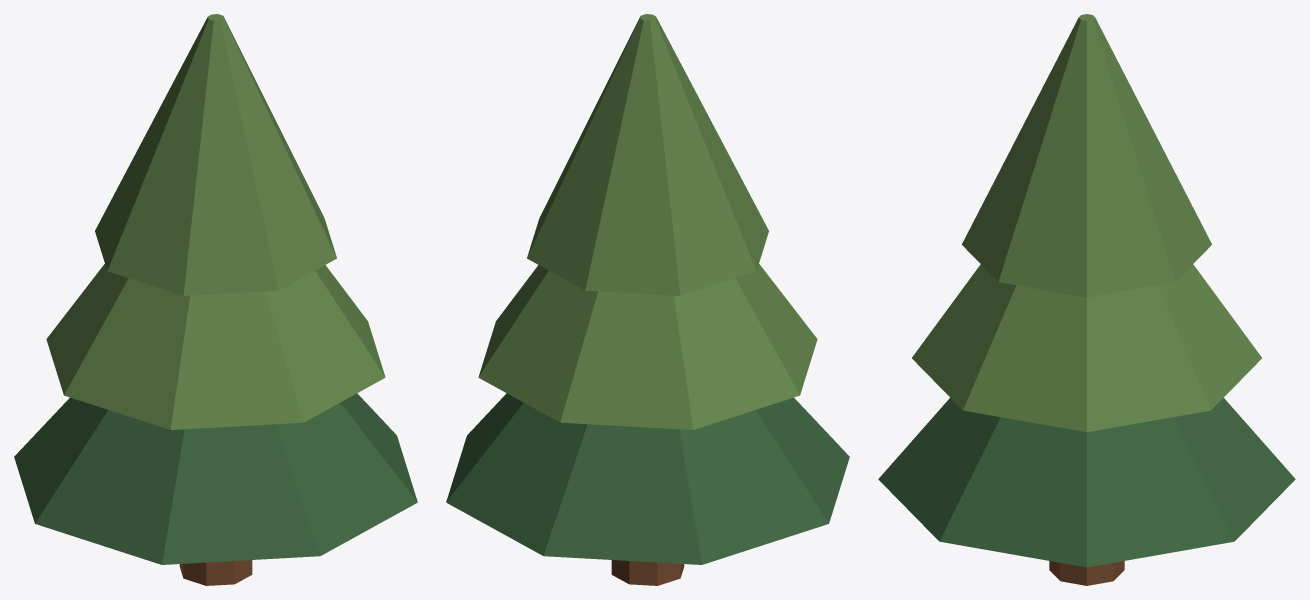
File: pine.glb
3 renders of one model, left to right at view 1: azimuth 30°, elevation 25°; view 2: azimuth 150°, elevation 25°; view 3: azimuth 270°, elevation 25°, orthographic.
Parts seen in each view (by area): view 1: village_pine; view 2: village_pine; view 3: village_pine.
Boxes of the visible parts, <box> form: village_pine: <box>14,14,417,585</box>; village_pine: <box>446,14,849,585</box>; village_pine: <box>878,14,1295,585</box>.
Bounding box in the file's own units: 50 × 73 × 50.
